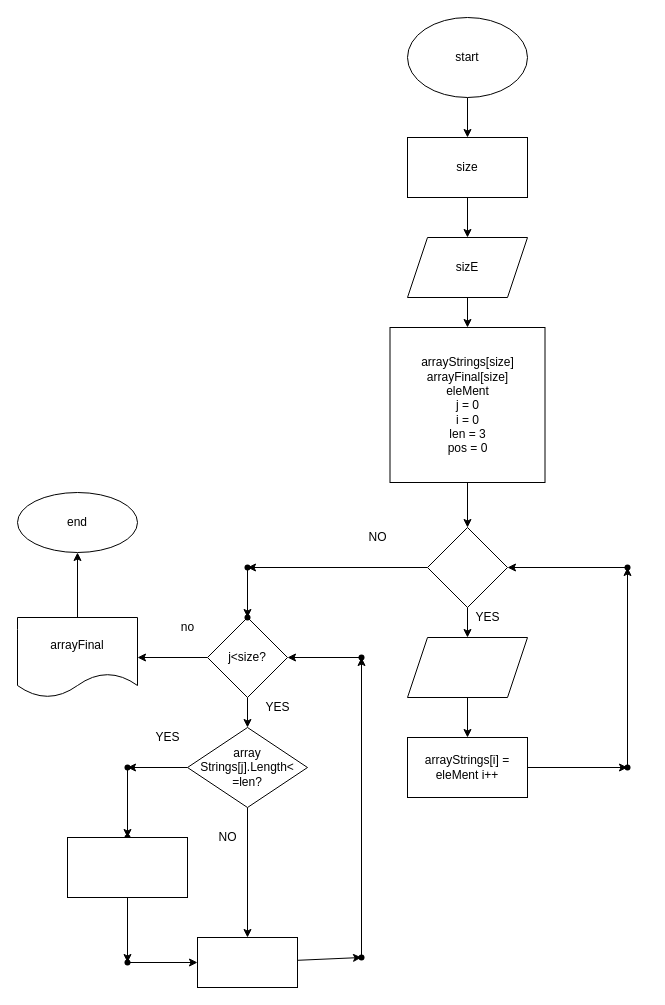
Some shapes in this 665 by 1005 pixel diagram are drawn without their labels. Each missing label, with the centre of its shape:
"arrayFinal[pos] = arrayStrings[j] pos++" goes at (x=127, y=867).
"eleMent" goes at (x=467, y=667).
"i<size?" goes at (x=467, y=567).
"j++" goes at (x=247, y=962).
